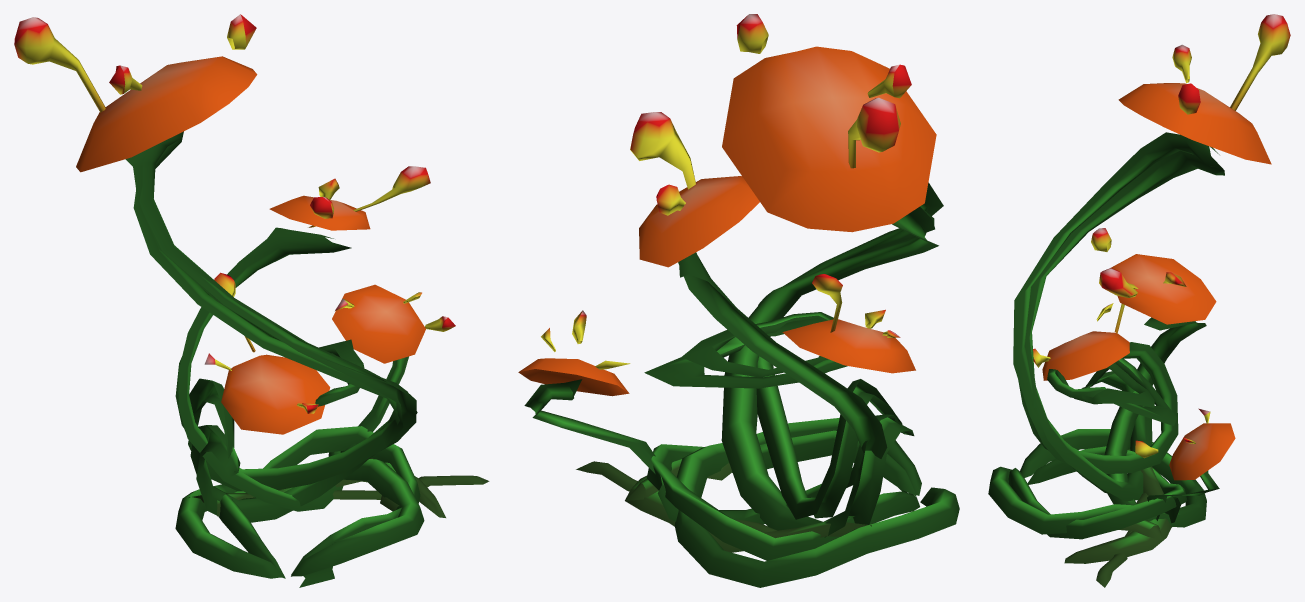
The model's file is Orange_up_2.fbx.
3 renders of one model, left to right at view 1: azimuth 30°, elevation 25°; view 2: azimuth 150°, elevation 25°; view 3: azimuth 270°, elevation 25°, orthographic. The views are drawn at different scales.
Visible parts, largest first — view 1: pCube146; view 2: pCube146; view 3: pCube146.
Boxes of the visible parts, x1,y1,x2,y2 form: pCube146: [14, 14, 489, 587]; pCube146: [518, 14, 959, 587]; pCube146: [988, 14, 1290, 587].
Size of the model in its own units: 473 by 587 by 375.
